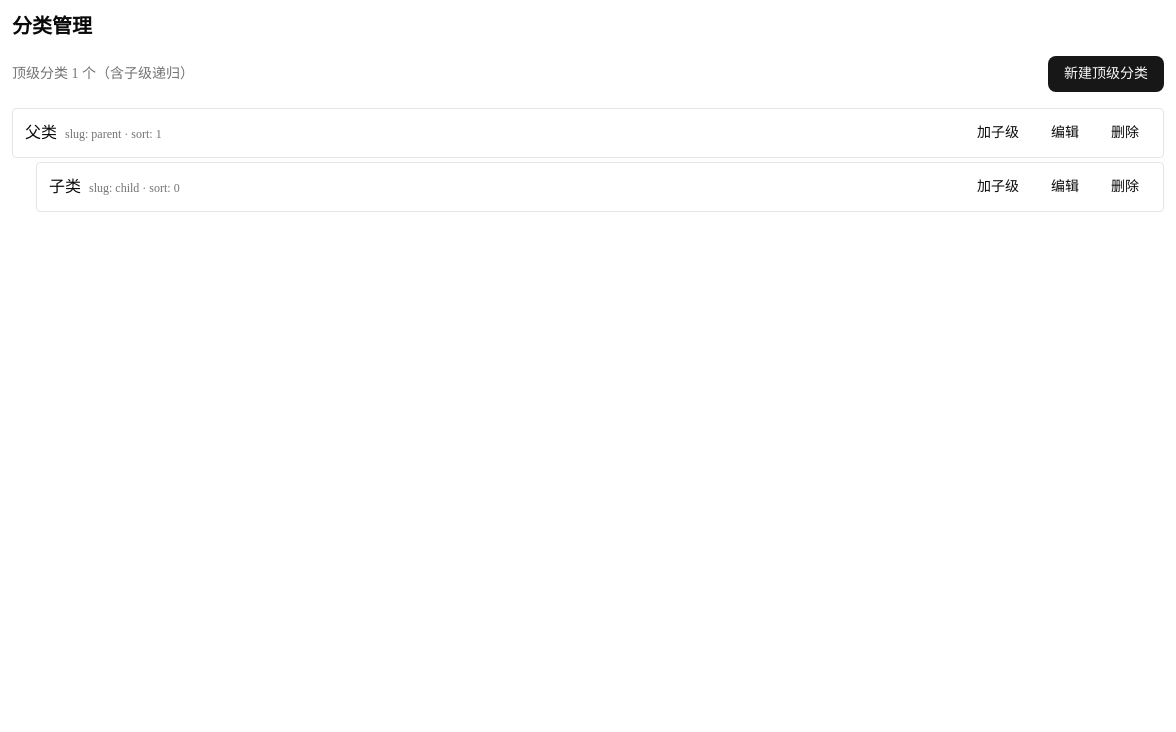
it: CategoriesPage › adds a child category under a node
What coordinates should you click on to do the following:
click the button "加子级" in the row of "parent"
I would click on:
 (998, 133)
Its box is x1=965 y1=117 x2=1031 y2=149.
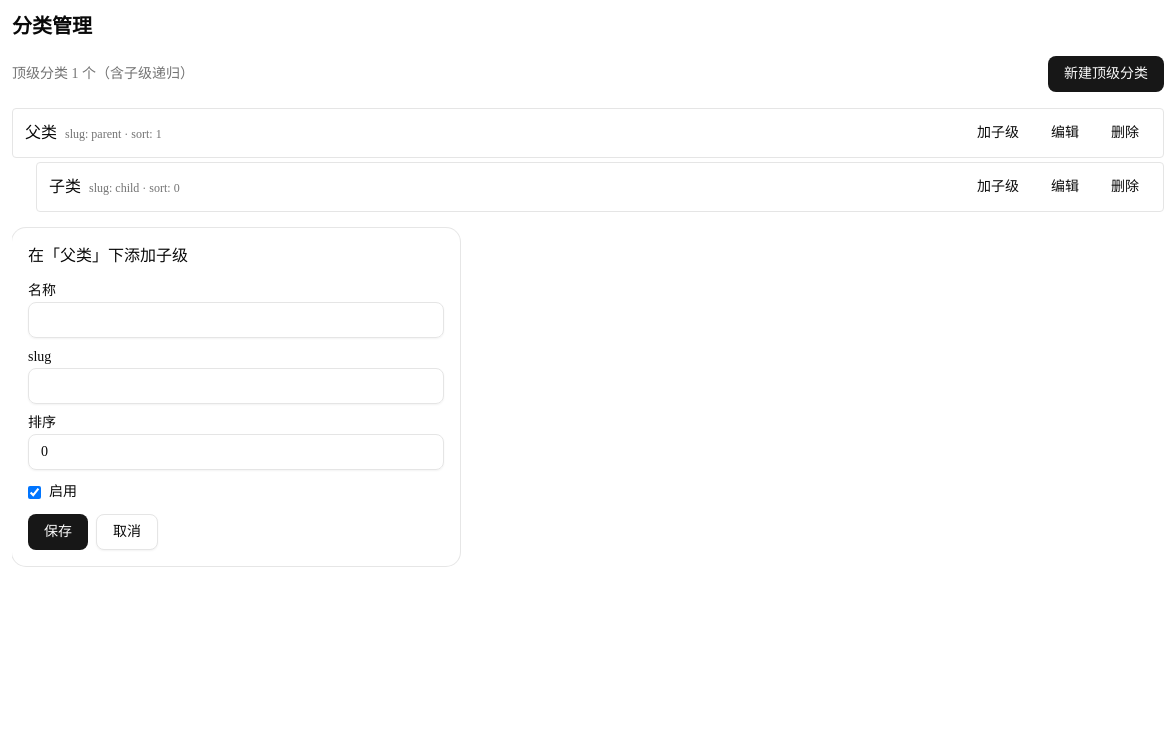
Expected: the text "在「父类」下添加子级" is shown, x1=28 y1=247 x2=188 y2=264
